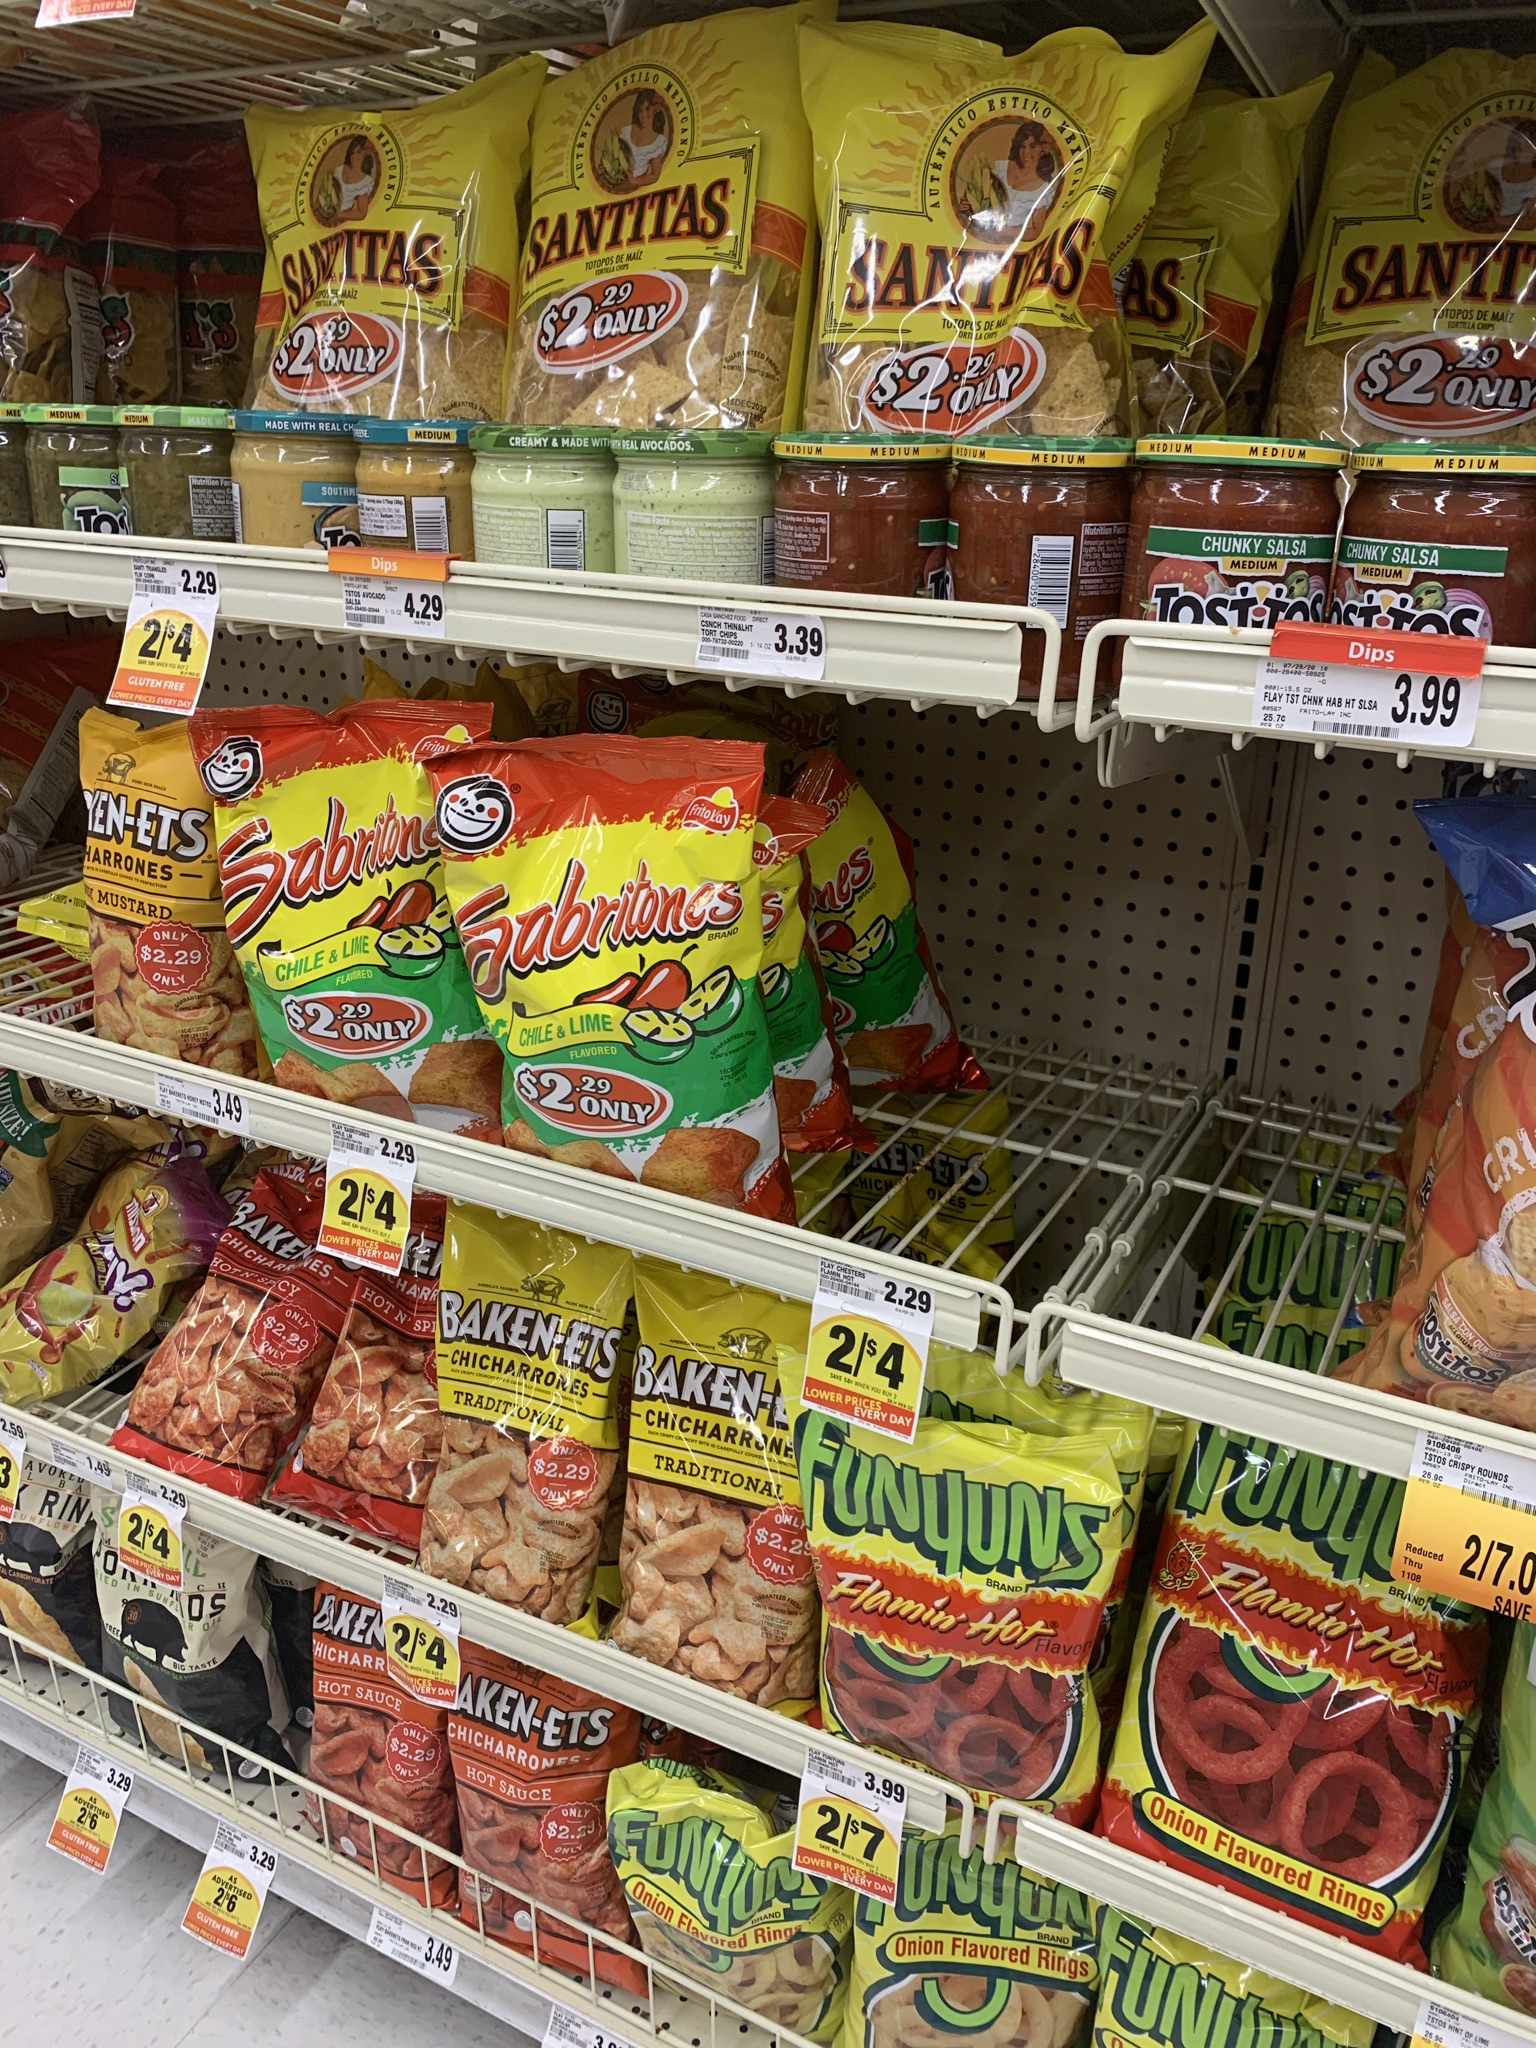baken-ets chips: (652, 1269, 803, 1711), (444, 1216, 594, 1629), (315, 1606, 465, 1904), (127, 1206, 257, 1471), (474, 1675, 584, 1914), (349, 1230, 424, 1534)
funnyuns: (1197, 1434, 1426, 1951), (824, 1426, 1097, 1793), (629, 1788, 821, 2048), (884, 1854, 1070, 2048)
sabritones chips: (437, 774, 762, 1188), (216, 755, 444, 1124)
sanitas chips: (829, 35, 1108, 435), (537, 79, 758, 447), (266, 139, 474, 490), (1338, 103, 1509, 498)
